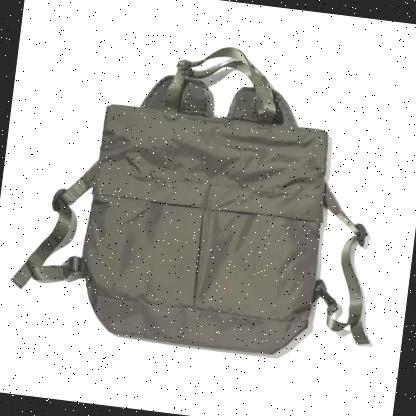bag: (18, 16, 408, 378)
